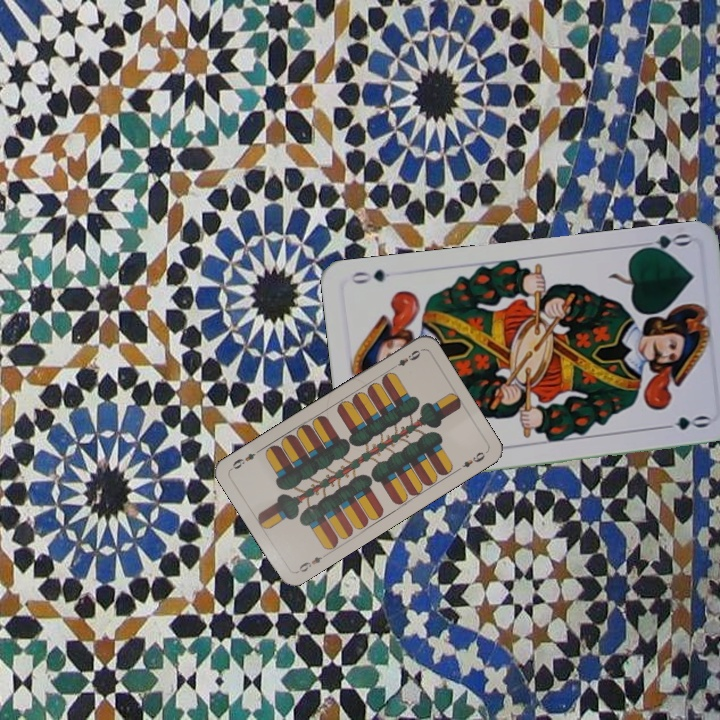E9: (293, 549, 329, 575), (388, 346, 423, 372)
GO: (633, 229, 692, 258)
